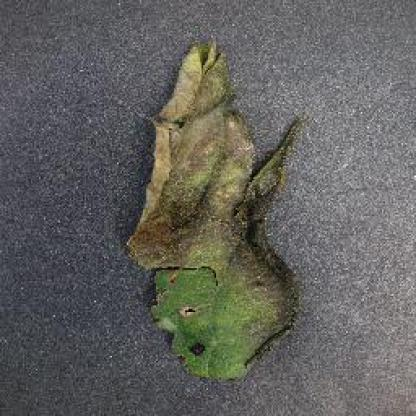bad leaf: (94, 34, 356, 397)
